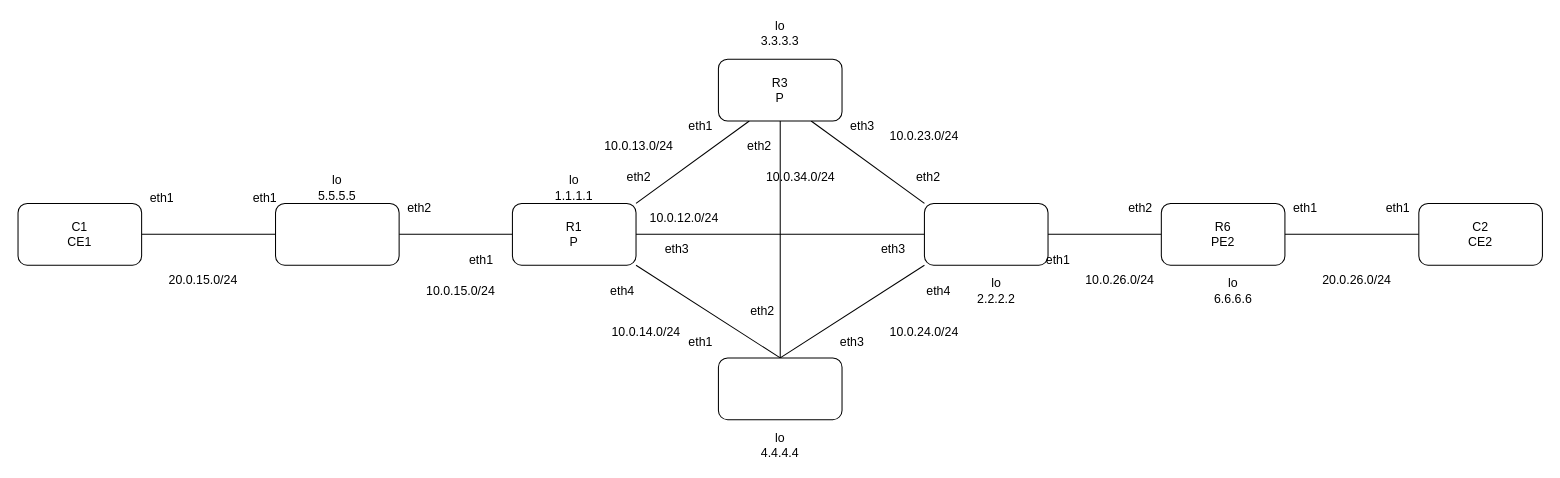
This 1560x478 diagram has some shape labels left out. The shapes that lost their labels are listed below. From the top down, each one's centre as x and y in pixels, then its label:
the point at 336,233: R5 PE1
the point at 985,233: R2 P
the point at 779,388: R4 P
